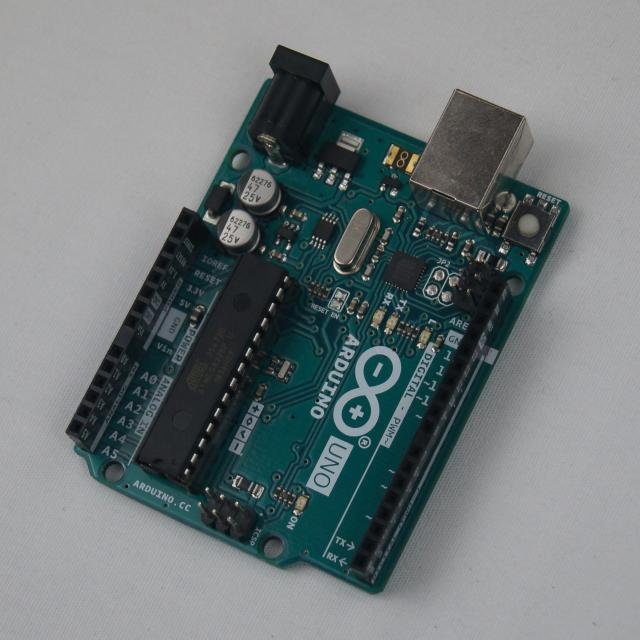Arduino Uno -Green-: (69, 47, 569, 592)
